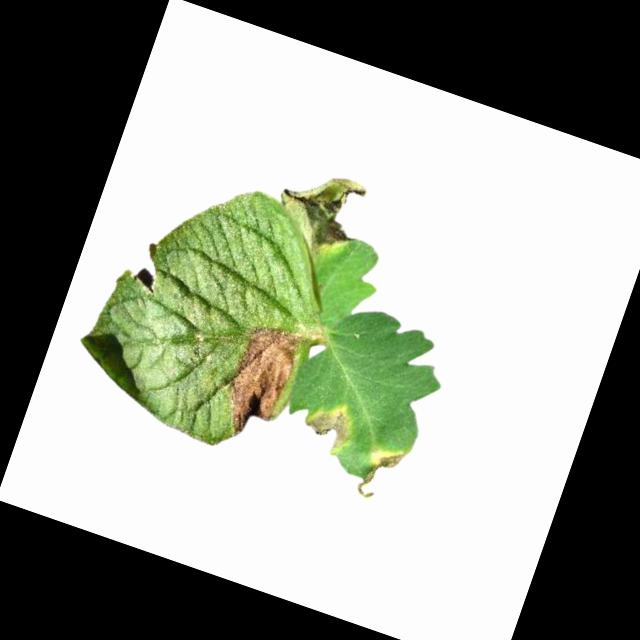Late_blight: (263, 156, 372, 265), (212, 317, 304, 445), (352, 436, 409, 507), (300, 393, 359, 457)
